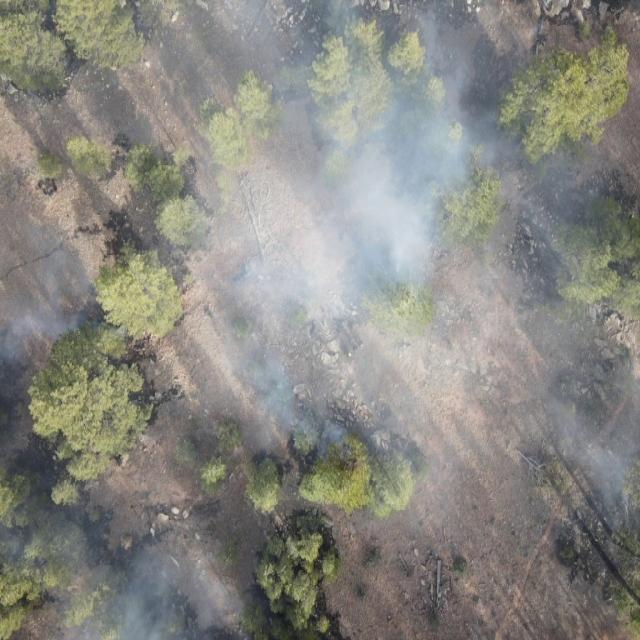smoke: (103, 0, 525, 438), (525, 98, 640, 532), (0, 506, 247, 640), (0, 218, 101, 358)
